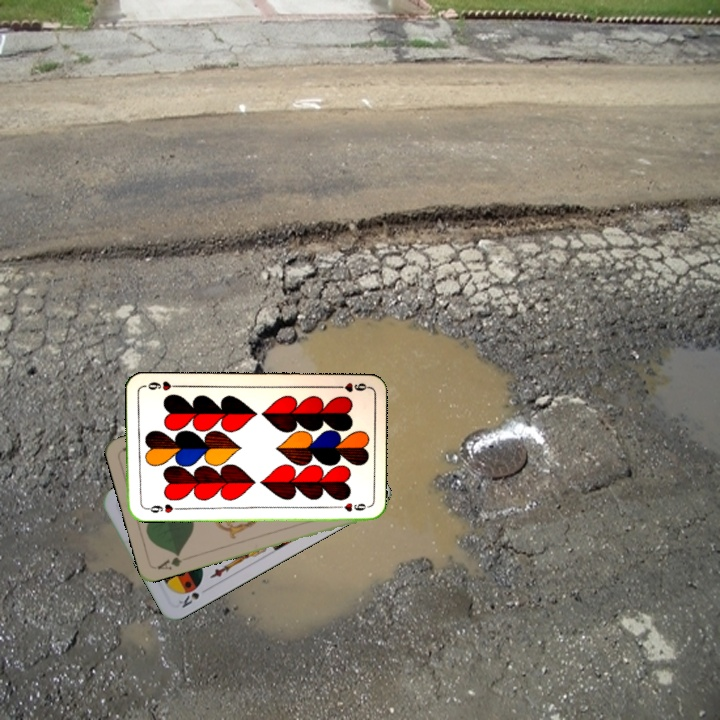GA: (153, 549, 185, 572)
H9: (140, 500, 181, 516), (329, 379, 370, 395)
SK: (174, 588, 202, 611)
